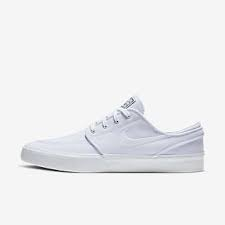nike: (117, 125, 206, 148)
